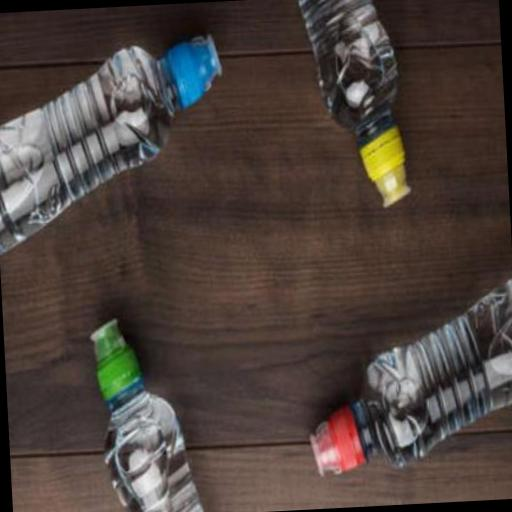Coca: (0, 2, 244, 269), (294, 245, 512, 488), (284, 0, 425, 226), (75, 309, 210, 512)
